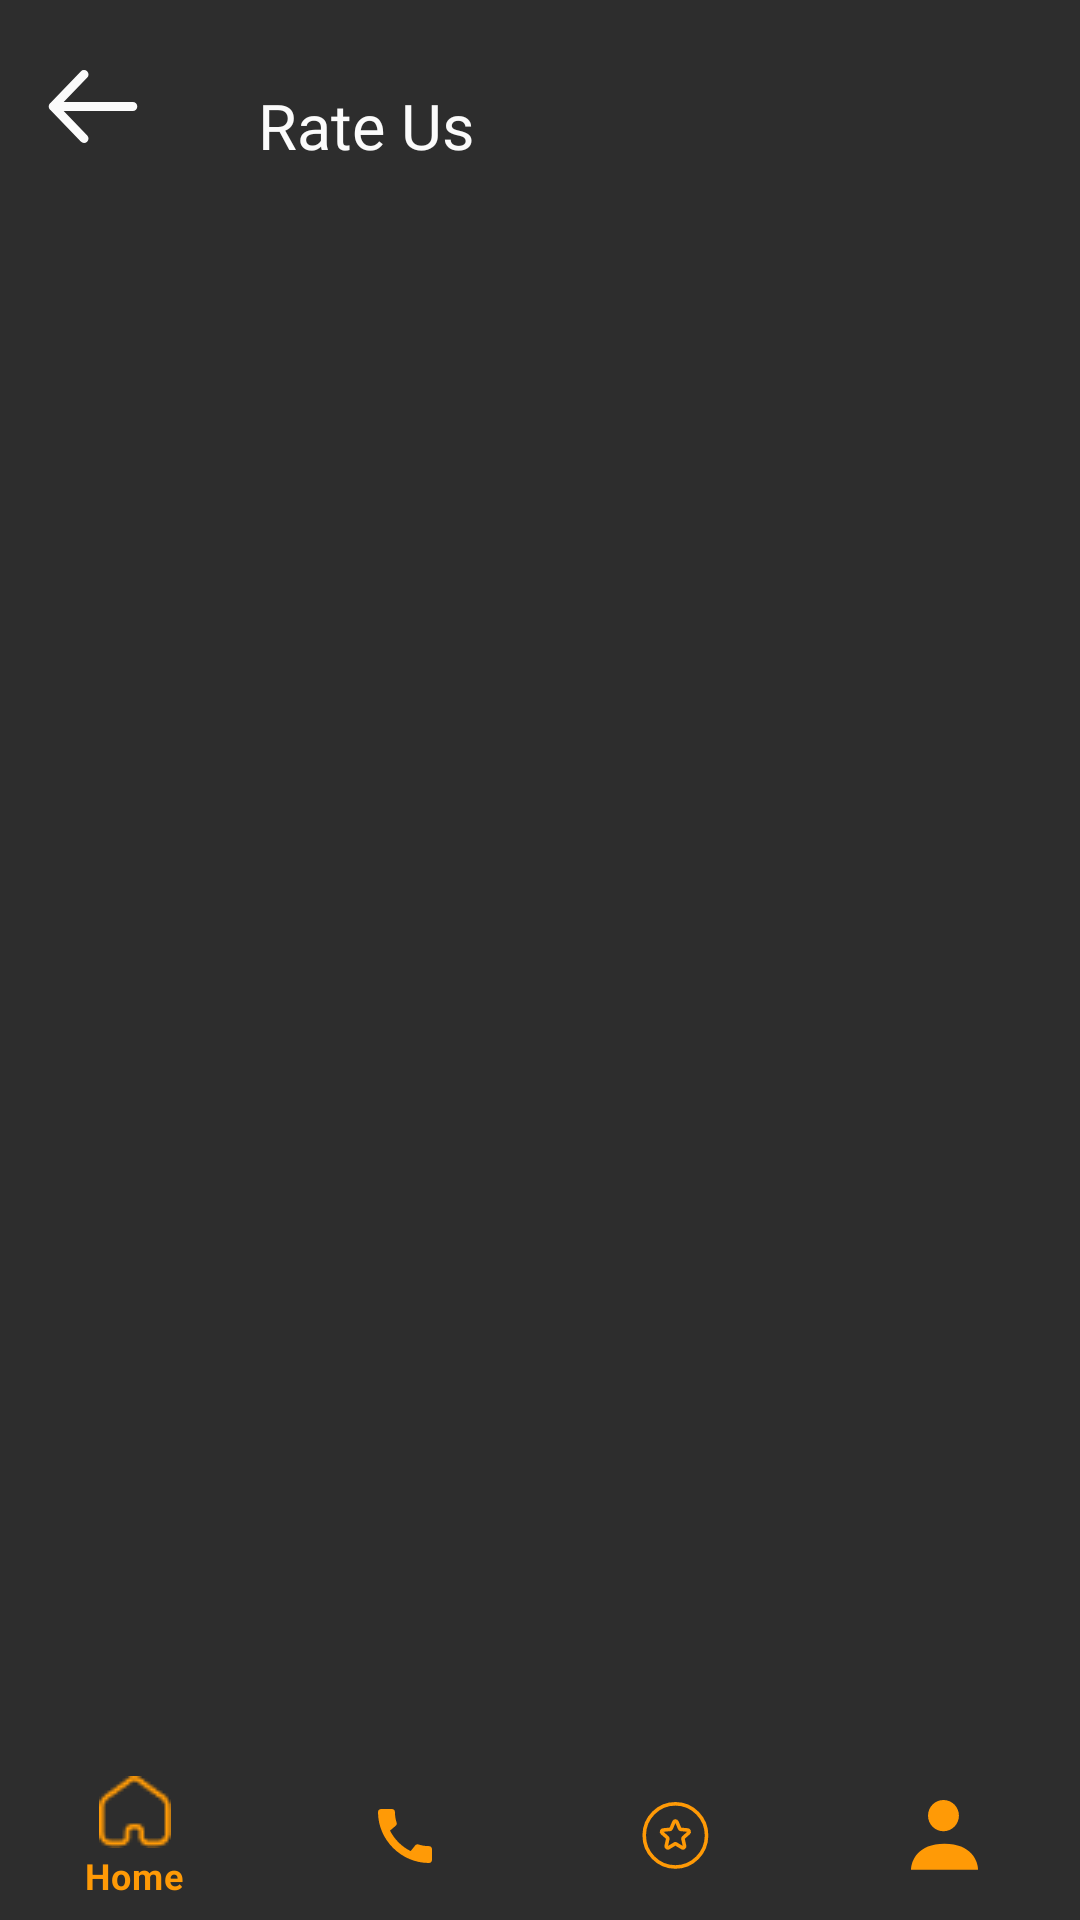

Screen size 1080 x 1920. Icon name, then its box in pixels as (x1, y1, x2, y2):
back: (48, 70, 138, 143)
